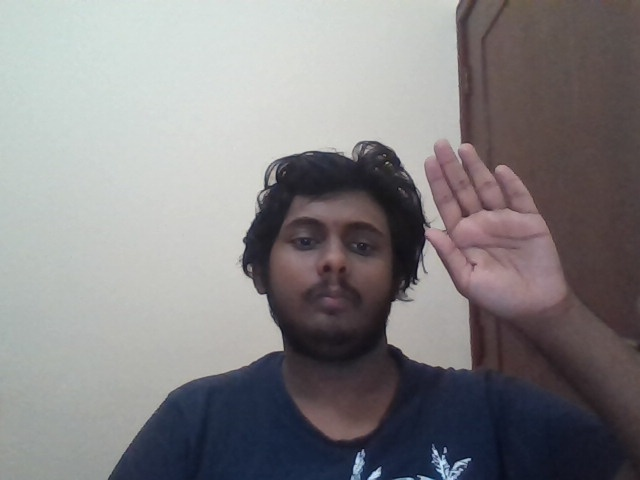hello: (424, 138, 567, 326)
